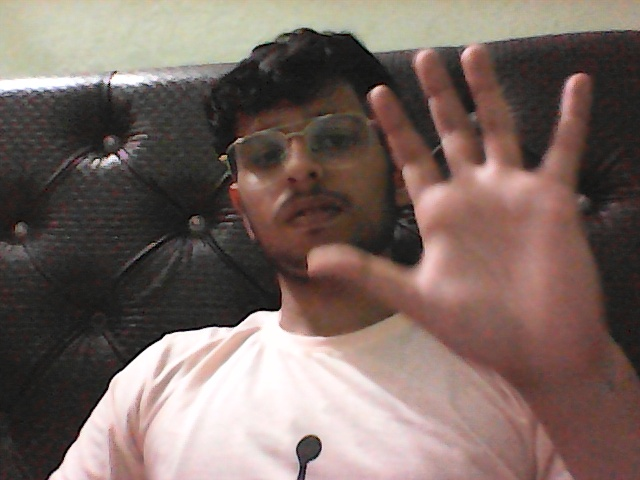hello: (313, 27, 632, 397)
